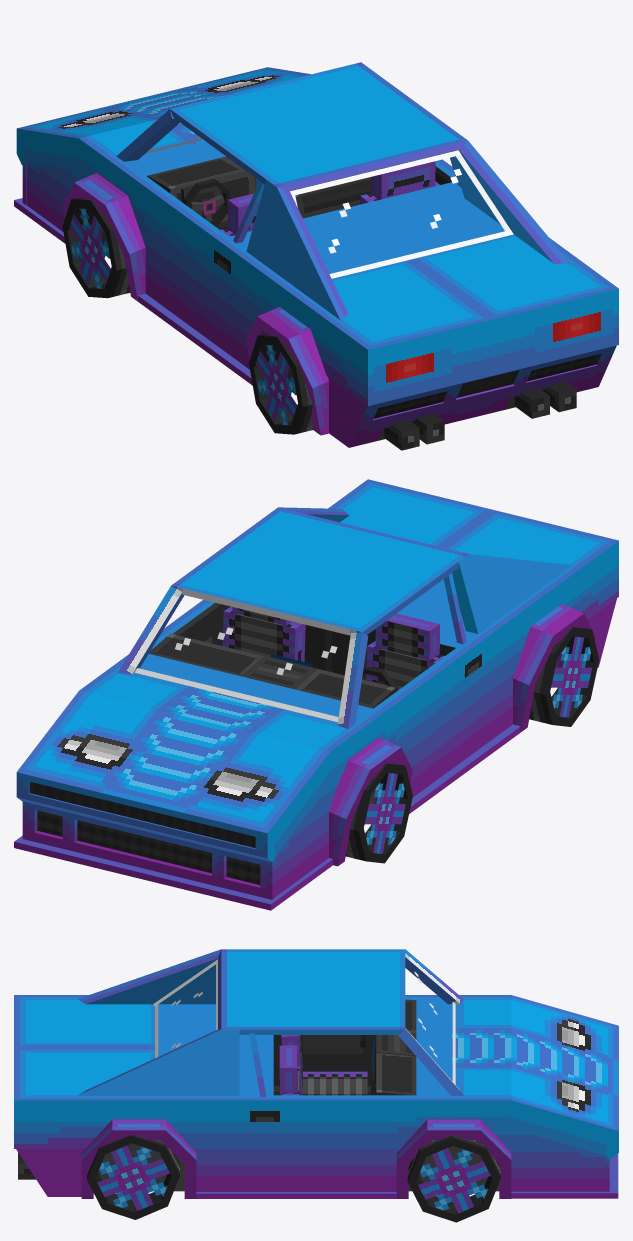
The model's file is super_car_minecraft.glb.
3 views of the same model, one above another, from view 1: azimuth 30°, elevation 25°; view 2: azimuth 150°, elevation 25°; view 3: azimuth 270°, elevation 25° (orthographic). The views are drawn at different scales.
Visible parts, largest first — view 1: b0af608e-a65d-69db-3d0e-5e1f0011fb55_124, 71e6da8f-0258-f041-5180-d57b9ee52ae4_70, 786db505-146e-36a5-7e07-d8861f6766b2_97, 616b8200-4c10-cea5-01a5-61934dcc352b_83, c5e3fa2c-fa91-ed7b-5183-d18dee03651c_155, 06aa4a67-5f7f-40cd-4dd9-ddcdf844d63b_125, 0d1381a8-268e-bb0e-8dbf-4894e1daea67_123, 872c2bd8-1ec6-4556-7d86-f288613ac13d_72, d0744d43-9ab2-344b-e4d1-1c1d78805a63_73, d6e66aee-4f96-45c8-f374-cdd98c31b5ae_84, f2982108-7a49-6fef-ebe4-e735ffd4efc2_193, 9676e5c7-77c3-25b6-4e74-9a34b0f0ce85_74 (+37 smaller); view 2: c5e3fa2c-fa91-ed7b-5183-d18dee03651c_155, 71e6da8f-0258-f041-5180-d57b9ee52ae4_70, 0d1381a8-268e-bb0e-8dbf-4894e1daea67_123, b0af608e-a65d-69db-3d0e-5e1f0011fb55_124, 616b8200-4c10-cea5-01a5-61934dcc352b_83, 7bea092b-a02c-045f-29a1-9261e0c33581_136, b1a33b41-c3f4-03b3-c432-99bf0bbe300b_160, d6e66aee-4f96-45c8-f374-cdd98c31b5ae_84, 01b955b0-15cd-8e6c-872f-d50612fcd6cb_147, 7649491e-ca8e-e74e-0abb-d25bd2610165_60, 06aa4a67-5f7f-40cd-4dd9-ddcdf844d63b_125, 45a8135c-c8ef-c8ee-5339-97c0816a6e6c_150 (+36 smaller); view 3: 71e6da8f-0258-f041-5180-d57b9ee52ae4_70, 50fa6195-f6c2-310b-caf3-73c98b4f265e_85, c5e3fa2c-fa91-ed7b-5183-d18dee03651c_155, b0af608e-a65d-69db-3d0e-5e1f0011fb55_124, 0d1381a8-268e-bb0e-8dbf-4894e1daea67_123, 394ad5c9-f272-7188-f6d2-0773f14a7e1d_86, 160aea2a-1a32-c25e-16d5-133ff2f2717f_148, 872c2bd8-1ec6-4556-7d86-f288613ac13d_72, d0744d43-9ab2-344b-e4d1-1c1d78805a63_73, 616b8200-4c10-cea5-01a5-61934dcc352b_83, 27067592-1dce-aefc-6687-77c795148746_19, 1d01dc8a-6c3f-a7df-ec8f-c5f814111aa7_39 (+44 smaller).
Part boxes in pixels (x1,y1,x2,y2): b0af608e-a65d-69db-3d0e-5e1f0011fb55_124: [268, 206, 602, 340]; 71e6da8f-0258-f041-5180-d57b9ee52ae4_70: [170, 62, 467, 186]; 786db505-146e-36a5-7e07-d8861f6766b2_97: [370, 284, 606, 402]; 616b8200-4c10-cea5-01a5-61934dcc352b_83: [144, 183, 241, 355]; c5e3fa2c-fa91-ed7b-5183-d18dee03651c_155: [16, 67, 310, 171]; 06aa4a67-5f7f-40cd-4dd9-ddcdf844d63b_125: [228, 182, 474, 250]; 0d1381a8-268e-bb0e-8dbf-4894e1daea67_123: [85, 119, 225, 176]; 872c2bd8-1ec6-4556-7d86-f288613ac13d_72: [268, 187, 348, 350]; d0744d43-9ab2-344b-e4d1-1c1d78805a63_73: [457, 141, 570, 264]; d6e66aee-4f96-45c8-f374-cdd98c31b5ae_84: [231, 246, 270, 369]; f2982108-7a49-6fef-ebe4-e735ffd4efc2_193: [147, 156, 254, 222]; 9676e5c7-77c3-25b6-4e74-9a34b0f0ce85_74: [292, 150, 513, 278]; c5e3fa2c-fa91-ed7b-5183-d18dee03651c_155: [17, 690, 332, 857]; 71e6da8f-0258-f041-5180-d57b9ee52ae4_70: [171, 507, 469, 635]; 0d1381a8-268e-bb0e-8dbf-4894e1daea67_123: [85, 654, 376, 750]; b0af608e-a65d-69db-3d0e-5e1f0011fb55_124: [336, 489, 601, 620]; 616b8200-4c10-cea5-01a5-61934dcc352b_83: [384, 638, 481, 797]; 7bea092b-a02c-045f-29a1-9261e0c33581_136: [37, 810, 260, 884]; b1a33b41-c3f4-03b3-c432-99bf0bbe300b_160: [14, 835, 332, 910]; d6e66aee-4f96-45c8-f374-cdd98c31b5ae_84: [470, 615, 512, 746]; 01b955b0-15cd-8e6c-872f-d50612fcd6cb_147: [276, 783, 333, 896]; 7649491e-ca8e-e74e-0abb-d25bd2610165_60: [222, 606, 305, 661]; 06aa4a67-5f7f-40cd-4dd9-ddcdf844d63b_125: [229, 606, 475, 679]; 45a8135c-c8ef-c8ee-5339-97c0816a6e6c_150: [29, 782, 255, 848]; 71e6da8f-0258-f041-5180-d57b9ee52ae4_70: [221, 949, 405, 1034]; 50fa6195-f6c2-310b-caf3-73c98b4f265e_85: [250, 1095, 398, 1191]; c5e3fa2c-fa91-ed7b-5183-d18dee03651c_155: [504, 995, 618, 1155]; b0af608e-a65d-69db-3d0e-5e1f0011fb55_124: [31, 997, 221, 1097]; 0d1381a8-268e-bb0e-8dbf-4894e1daea67_123: [416, 997, 511, 1097]; 394ad5c9-f272-7188-f6d2-0773f14a7e1d_86: [196, 1095, 249, 1191]; 160aea2a-1a32-c25e-16d5-133ff2f2717f_148: [502, 1130, 603, 1191]; 872c2bd8-1ec6-4556-7d86-f288613ac13d_72: [78, 949, 220, 1004]; d0744d43-9ab2-344b-e4d1-1c1d78805a63_73: [78, 1029, 221, 1095]; 616b8200-4c10-cea5-01a5-61934dcc352b_83: [273, 1035, 372, 1091]; 27067592-1dce-aefc-6687-77c795148746_19: [97, 1145, 169, 1210]; 1d01dc8a-6c3f-a7df-ec8f-c5f814111aa7_39: [418, 1148, 490, 1213].
Size of the model in its own units: 3.13 by 2.23 by 6.36.
Materials: 1 (1 with a texture image).
